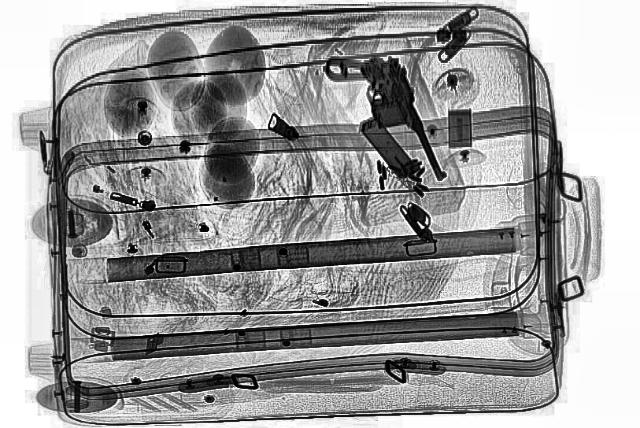Gun: (319, 47, 445, 188)
